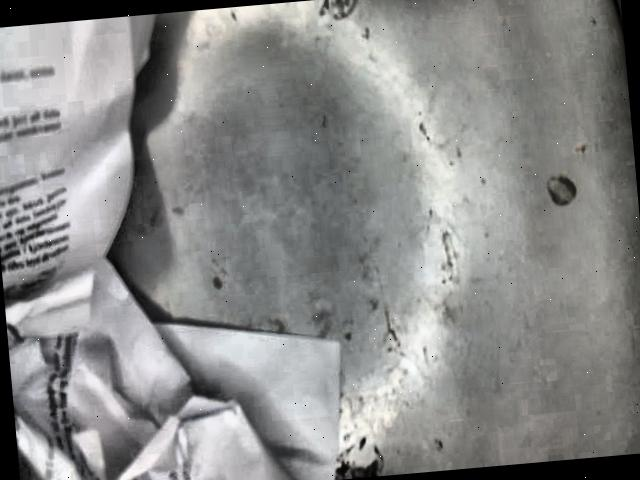Paper: (0, 13, 342, 480)
